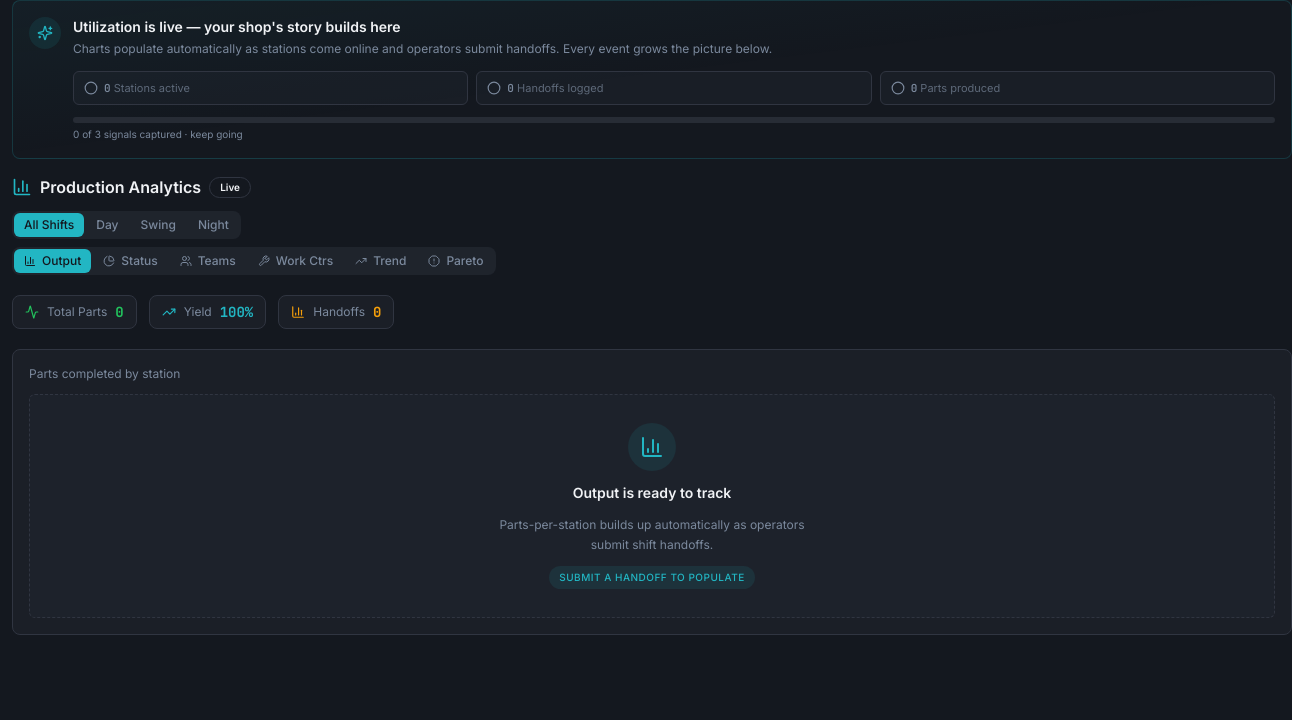
ProductionAnalytics › shows empty state for status view with no active stations
Click the button "Status". click: (130, 261)
box: [93,249,168,273]
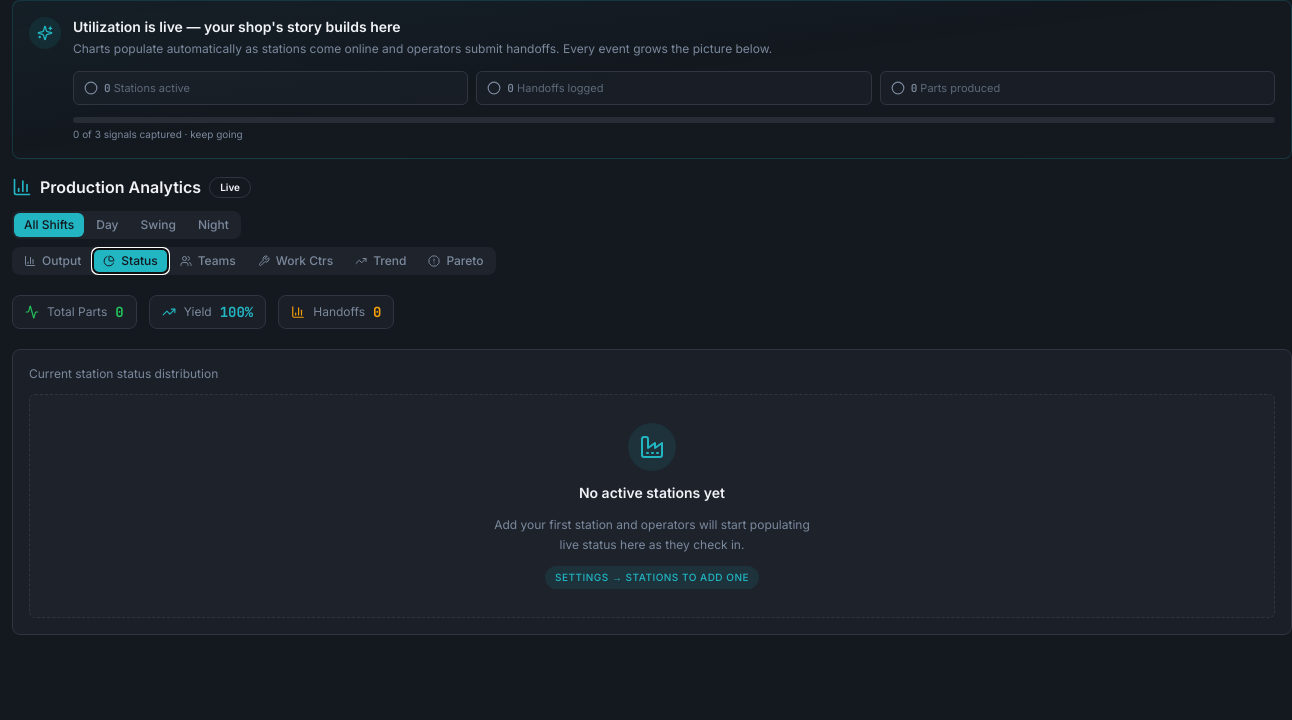
Now the text "No active stations yet" is shown, box [579,483,725,503]
